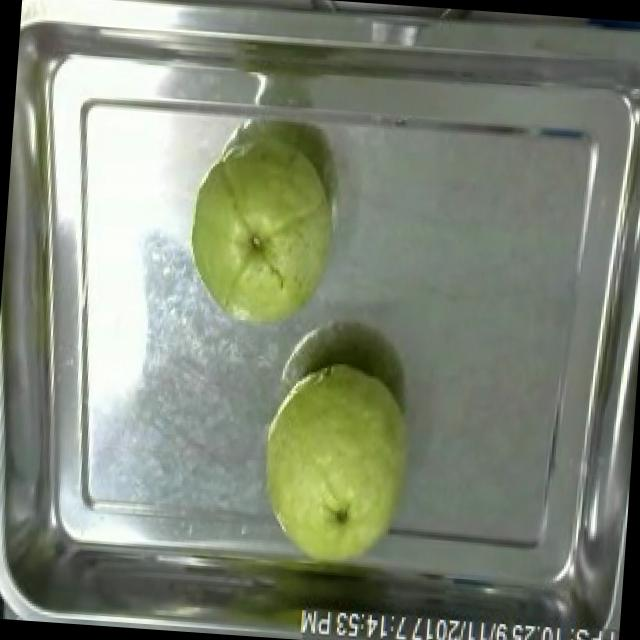Fruit: (245, 351, 430, 580), (173, 122, 351, 340)
